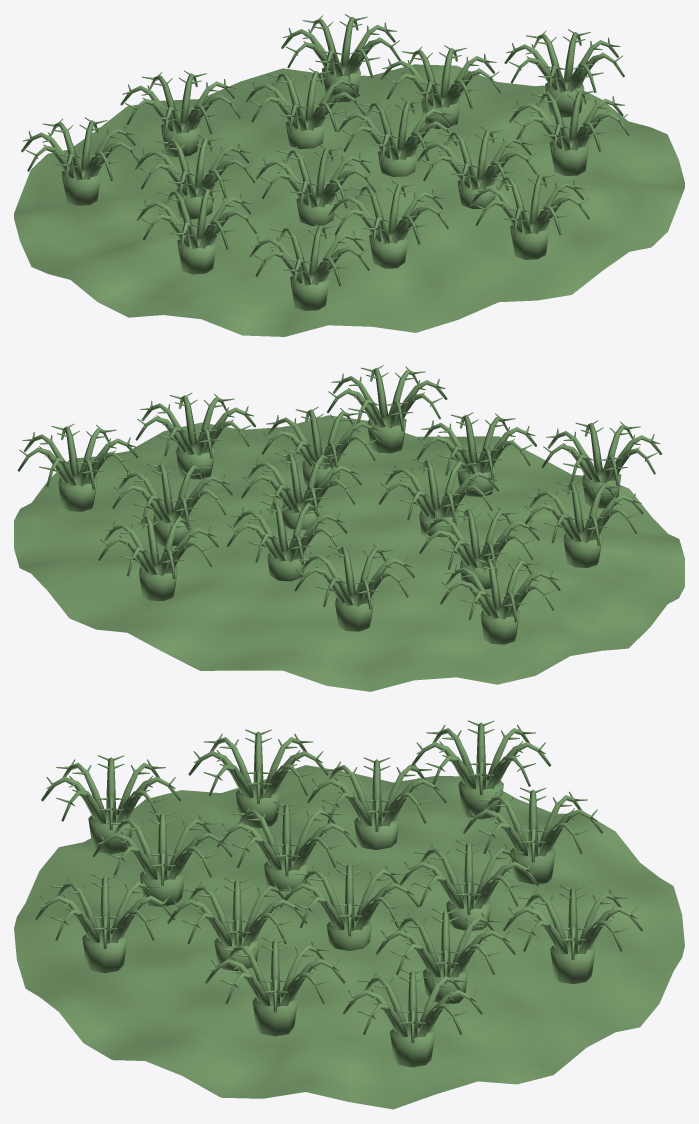
File: greenstar-mobile.glb
3 views of the same model, one above another, from view 1: azimuth 30°, elevation 25°; view 2: azimuth 150°, elevation 25°; view 3: azimuth 270°, elevation 25° (orthographic). The views are drawn at different scales.
Parts seen in each view (by area): view 1: encrusting-mat, octocoral-tentacle, polyp-column, pinnule; view 2: encrusting-mat, octocoral-tentacle, polyp-column, pinnule; view 3: encrusting-mat, octocoral-tentacle, polyp-column, pinnule.
Boxes of the visible parts, x1,y1,x2,y2 form: encrusting-mat: [14, 64, 684, 336]; octocoral-tentacle: [21, 17, 629, 288]; polyp-column: [61, 63, 588, 310]; pinnule: [23, 14, 627, 272]; encrusting-mat: [14, 415, 684, 691]; octocoral-tentacle: [17, 367, 661, 622]; polyp-column: [58, 414, 621, 644]; pinnule: [19, 365, 660, 606]; encrusting-mat: [14, 765, 684, 1109]; octocoral-tentacle: [35, 722, 642, 1043]; polyp-column: [82, 776, 595, 1067]; pinnule: [40, 720, 637, 1024].
Size of the model in its own units: 0.64 by 0.0811 by 0.5504.
